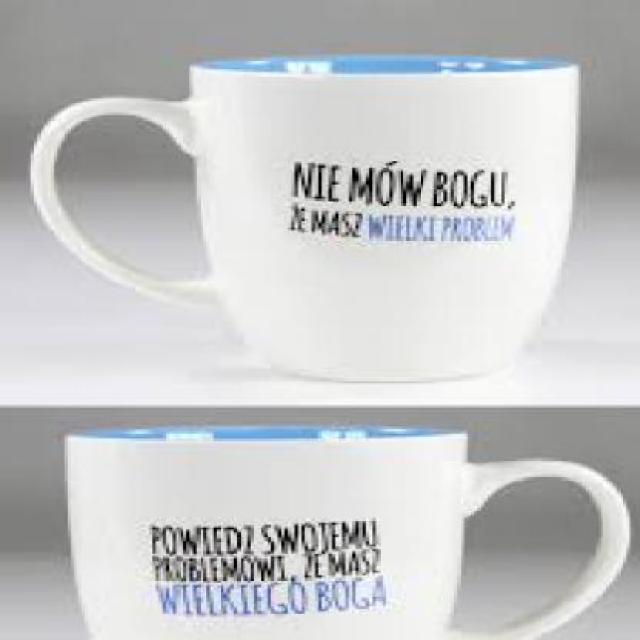cup: (20, 48, 589, 393)
